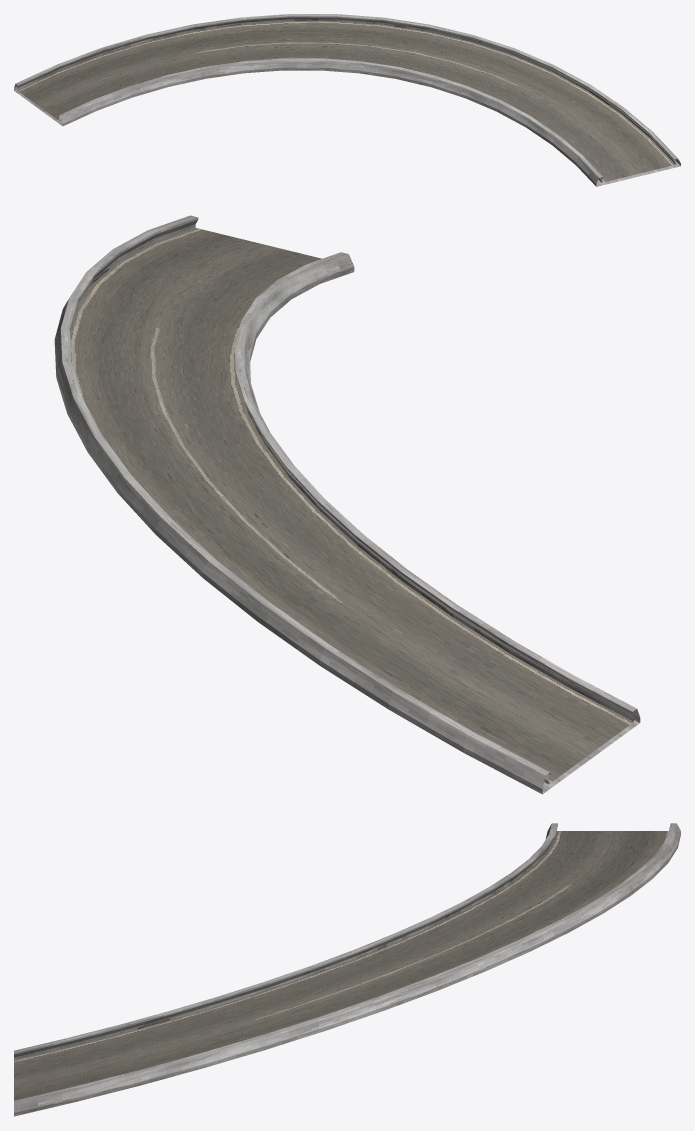
The model's file is turn-left5x5.glb.
3 views of the same model, one above another, from view 1: azimuth 30°, elevation 25°; view 2: azimuth 150°, elevation 25°; view 3: azimuth 270°, elevation 25° (orthographic). The views are drawn at different scales.
Visible parts, largest first — view 1: road-Turn-BiSlopeUp-BiSlopeDown-Even-Left-Size5; view 2: road-Turn-BiSlopeUp-BiSlopeDown-Even-Left-Size5; view 3: road-Turn-BiSlopeUp-BiSlopeDown-Even-Left-Size5.
Part boxes in pixels (x1=…): road-Turn-BiSlopeUp-BiSlopeDown-Even-Left-Size5: x1=14, y1=14, x2=680, y2=186; road-Turn-BiSlopeUp-BiSlopeDown-Even-Left-Size5: x1=54, y1=215, x2=640, y2=794; road-Turn-BiSlopeUp-BiSlopeDown-Even-Left-Size5: x1=14, y1=823, x2=680, y2=1116.
Bounding box in the file's own units: 5 × 0.6081 × 5.
Materials: 2 (2 with a texture image).
